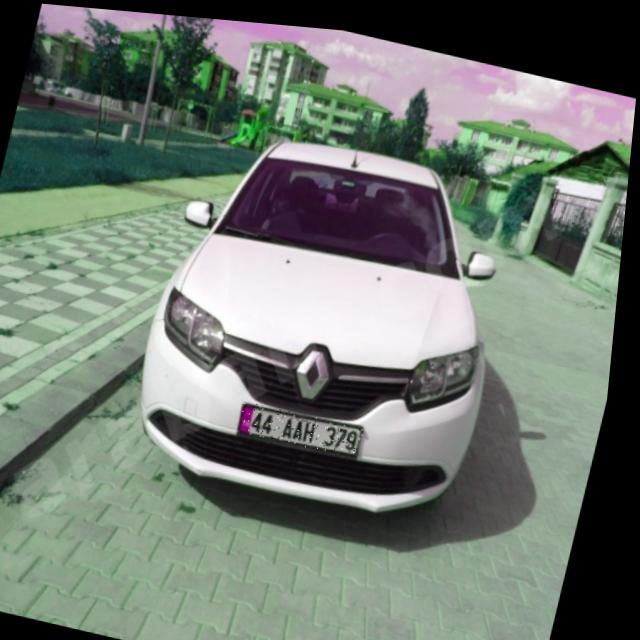license_plate: (244, 395, 373, 452)
